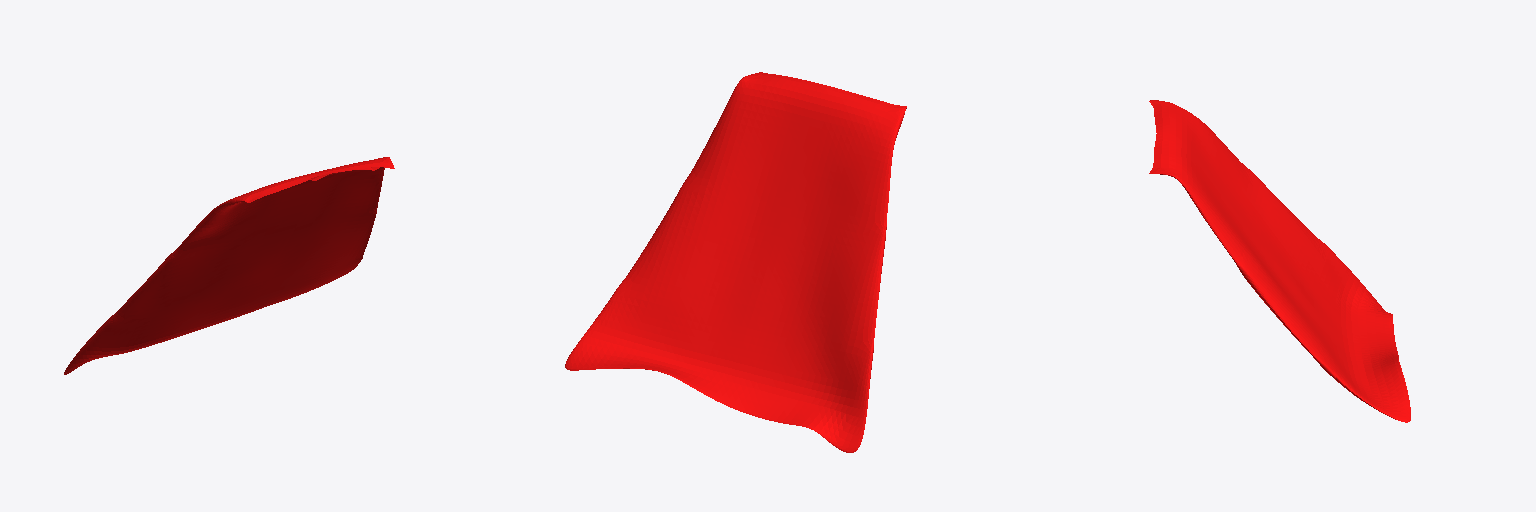
The model's file is Cap01.obj.
3 renders of one model, left to right at view 1: azimuth 30°, elevation 25°; view 2: azimuth 150°, elevation 25°; view 3: azimuth 270°, elevation 25°, orthographic.
Parts seen in each view (by area): view 1: Line015; view 2: Line015; view 3: Line015.
Boxes of the visible parts, <box> form: Line015: <box>64,157,394,374</box>; Line015: <box>565,72,906,452</box>; Line015: <box>1149,100,1410,422</box>.
Bounding box in the file's own units: 35.21 × 29.53 × 28.2.